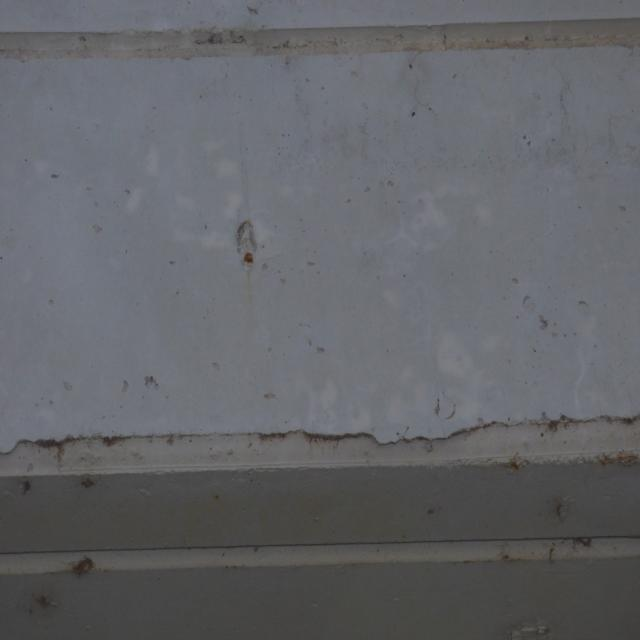corrosion: (0, 432, 197, 465), (255, 425, 378, 453), (498, 536, 595, 566), (537, 498, 571, 529), (66, 552, 99, 582), (591, 452, 640, 468), (502, 453, 534, 476), (17, 477, 38, 496), (80, 476, 97, 493), (242, 249, 256, 267)
